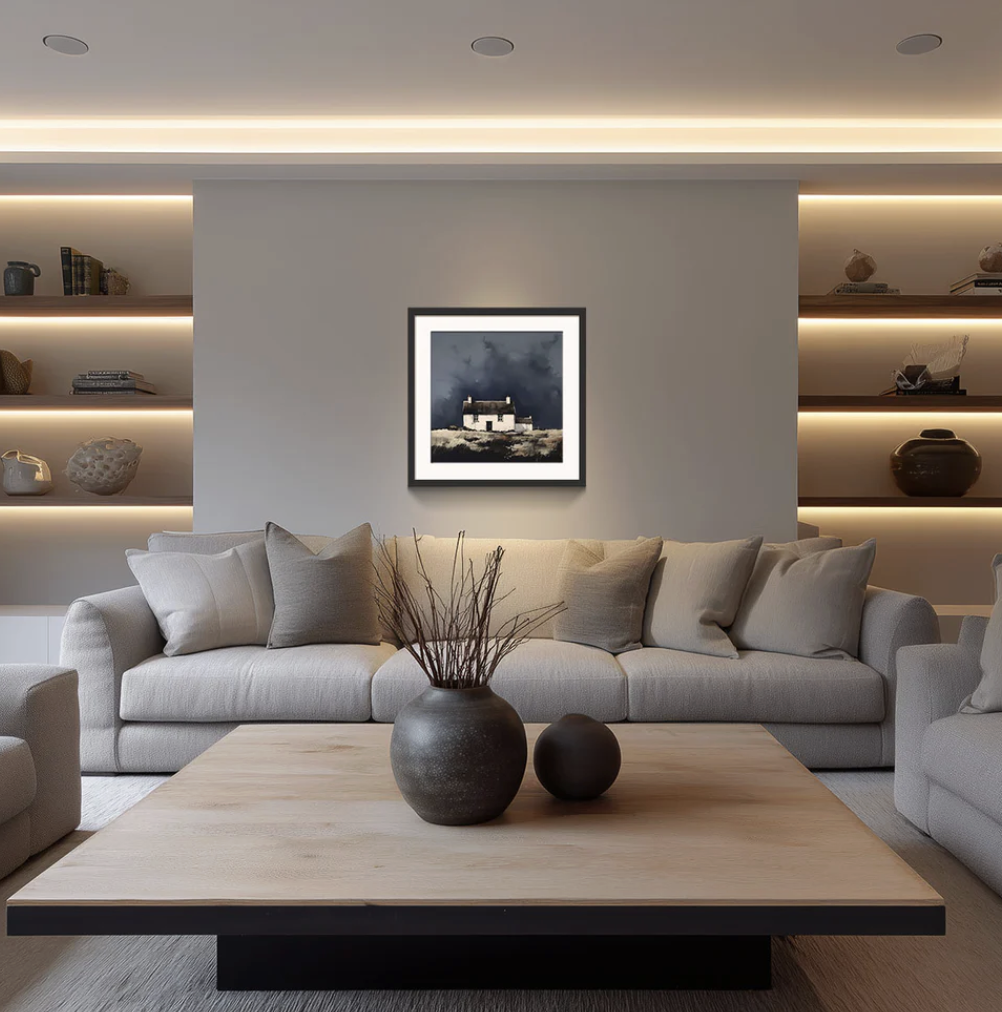painting: (404, 305, 589, 491)
